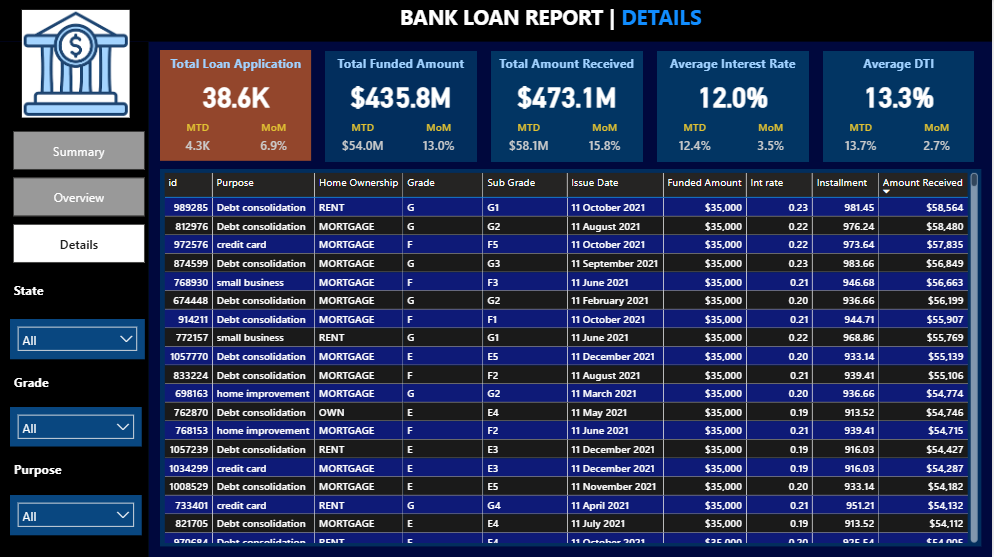

This screenshot's page, from the dashboard's own definition file:
{"tool":"powerbi","page":{"name":"Details","canvas":[1280,720],"ordinal":2},"visuals":[{"type":"shape","box":[0,0,1279.8,55.3],"z":0},{"type":"card","fields":{"Values":["financial_loan.Total Loan Application"]},"box":[206.9,101,195.6,45.4],"z":0,"group":"g3"},{"type":"card","fields":{"Values":["financial_loan.Total Funded Amount"]},"box":[419.5,101,195.6,45.4],"z":0,"group":"g2"},{"type":"card","fields":{"Values":["financial_loan.Total Amount Received"]},"box":[633.9,101,195.4,45.4],"z":0,"group":"g5"},{"type":"card","fields":{"Values":["financial_loan.Average Interest Rate"]},"box":[847.7,101,195.4,45.4],"z":0,"group":"g4"},{"type":"card","fields":{"Values":["financial_loan.Average DTI"]},"box":[1061.6,101,195.4,45.4],"z":0,"group":"g6"},{"type":"shape","box":[0,55.1,192,664.8],"z":1000},{"type":"textbox","box":[206.9,66.6,195.6,34.4],"z":1000,"group":"g3"},{"type":"textbox","title":"Toatal Funded Amount","box":[419.5,66.6,195.6,34.4],"z":1000,"group":"g2"},{"type":"textbox","box":[633.9,66.6,195.4,34.4],"z":1000,"group":"g5"},{"type":"textbox","box":[847.7,66.6,195.4,34.4],"z":1000,"group":"g4"},{"type":"textbox","box":[1061.6,66.6,195.4,34.4],"z":1000,"group":"g6"},{"type":"textbox","box":[510.6,0,447.3,55.1],"z":2000},{"type":"card","title":"MTD","fields":{"Values":["financial_loan.MTD Loan Application"]},"box":[206.9,156.1,97.8,53.7],"z":2000,"group":"g3"},{"type":"card","title":"MTD","fields":{"Values":["financial_loan.MTD Funded Amount"]},"box":[419.5,156.1,97.8,53.7],"z":2000,"group":"g2"},{"type":"card","title":"MTD","fields":{"Values":["financial_loan.MTD Total Amount Received"]},"box":[633.9,156.1,97.7,53.7],"z":2000,"group":"g5"},{"type":"card","title":"MTD","fields":{"Values":["financial_loan.MTD Average Interest Rate"]},"box":[847.7,156.1,97.7,53.7],"z":2000,"group":"g4"},{"type":"card","title":"MTD","fields":{"Values":["financial_loan.MTD Average DTI"]},"box":[1061.6,156.1,97.7,53.7],"z":2000,"group":"g6"},{"type":"shape","box":[206.5,66.1,195.4,143.1],"z":3000},{"type":"card","title":"MoM","fields":{"Values":["financial_loan.MoM Loan Application"]},"box":[304.7,156.1,97.8,53.7],"z":3000,"group":"g3"},{"type":"card","title":"MoM","fields":{"Values":["financial_loan.MoM Funded Amount"]},"box":[517.3,156.1,97.8,53.7],"z":3000,"group":"g2"},{"type":"card","title":"MoM","fields":{"Values":["financial_loan.MoM Amount Received"]},"box":[731.6,156.1,97.7,53.7],"z":3000,"group":"g5"},{"type":"card","title":"MoM","fields":{"Values":["financial_loan.MoM Average Interest Rate"]},"box":[945.4,156.1,97.7,53.7],"z":3000,"group":"g4"},{"type":"card","title":"MoM","fields":{"Values":["financial_loan.MoM Average Dti"]},"box":[1159.3,156.1,97.7,53.7],"z":3000,"group":"g6"},{"type":"group","id":"g1","title":"Group 1","box":[206.9,66.6,195.6,143.1],"z":4000},{"type":"group","id":"g2","title":"Group 1","box":[419.5,66.6,195.6,143.1],"z":5000},{"type":"group","id":"g3","title":"Group 2","box":[206.9,66.6,195.6,143.1],"z":5001,"group":"g1"},{"type":"group","id":"g4","title":"Group 2","box":[847.7,66.6,195.6,143.1],"z":6000},{"type":"group","id":"g5","title":"Group 2","box":[633.9,66.6,195.4,143.1],"z":7000},{"type":"group","id":"g6","title":"Group 2","box":[1061.6,66.6,195.6,143.1],"z":8000},{"type":"shape","box":[206.5,218.8,1059.8,487.2],"z":9000},{"type":"slicer","fields":{"Values":["financial_loan.address_state"]},"box":[12.8,412.4,174.3,52.4],"z":10000},{"type":"textbox","box":[12.8,360,170.1,38.3],"z":11000},{"type":"textbox","box":[12.8,591,170.1,35.4],"z":12000},{"type":"textbox","box":[12.8,479.1,170.1,32.6],"z":13000},{"type":"slicer","fields":{"Values":["financial_loan.purpose"]},"box":[12.8,640.6,170.1,52.4],"z":14000},{"type":"slicer","fields":{"Values":["financial_loan.grade"]},"box":[12.8,525.8,170.1,51],"z":15000},{"type":"tableEx","fields":{"Values":["financial_loan.id","financial_loan.purpose","financial_loan.home_ownership","financial_loan.grade","financial_loan.sub_grade","financial_loan.issue_date","financial_loan.Total Funded Amount","Sum(financial_loan.int_rate)","Sum(financial_loan.installment)","financial_loan.Total Amount Received"]},"box":[206.5,218.8,1059.8,487.2],"z":16000},{"type":"pageNavigator","box":[17,170.1,170.1,170.1],"z":17000},{"type":"image","box":[22.7,8.5,148.8,148.8],"z":17001}]}

Visuals, with their boxes in screenshot pixels (x1, y1, x2, y2), scaled from the page's 1280x720 canvas onto the 994x557 screenshot:
shape: Rect(0, 0, 993, 43)
card - financial_loan.Total Loan Application: Rect(161, 78, 313, 113)
card - financial_loan.Total Funded Amount: Rect(326, 78, 478, 113)
card - financial_loan.Total Amount Received: Rect(492, 78, 644, 113)
card - financial_loan.Average Interest Rate: Rect(658, 78, 810, 113)
card - financial_loan.Average DTI: Rect(824, 78, 976, 113)
shape: Rect(0, 43, 149, 556)
textbox: Rect(161, 52, 313, 78)
"Toatal Funded Amount" textbox: Rect(326, 52, 478, 78)
textbox: Rect(492, 52, 644, 78)
textbox: Rect(658, 52, 810, 78)
textbox: Rect(824, 52, 976, 78)
textbox: Rect(397, 0, 744, 43)
"MTD" card: Rect(161, 121, 237, 162)
"MTD" card: Rect(326, 121, 402, 162)
"MTD" card: Rect(492, 121, 568, 162)
"MTD" card: Rect(658, 121, 734, 162)
"MTD" card: Rect(824, 121, 900, 162)
shape: Rect(160, 51, 312, 162)
"MoM" card: Rect(237, 121, 313, 162)
"MoM" card: Rect(402, 121, 478, 162)
"MoM" card: Rect(568, 121, 644, 162)
"MoM" card: Rect(734, 121, 810, 162)
"MoM" card: Rect(900, 121, 976, 162)
"Group 1" group: Rect(161, 52, 313, 162)
"Group 1" group: Rect(326, 52, 478, 162)
"Group 2" group: Rect(161, 52, 313, 162)
"Group 2" group: Rect(658, 52, 810, 162)
"Group 2" group: Rect(492, 52, 644, 162)
"Group 2" group: Rect(824, 52, 976, 162)
shape: Rect(160, 169, 983, 546)
slicer - financial_loan.address_state: Rect(10, 319, 145, 360)
textbox: Rect(10, 278, 142, 308)
textbox: Rect(10, 457, 142, 485)
textbox: Rect(10, 371, 142, 396)
slicer - financial_loan.purpose: Rect(10, 496, 142, 536)
slicer - financial_loan.grade: Rect(10, 407, 142, 446)
tableEx - financial_loan.id x financial_loan.purpose: Rect(160, 169, 983, 546)
pageNavigator: Rect(13, 132, 145, 263)
image: Rect(18, 7, 133, 122)
